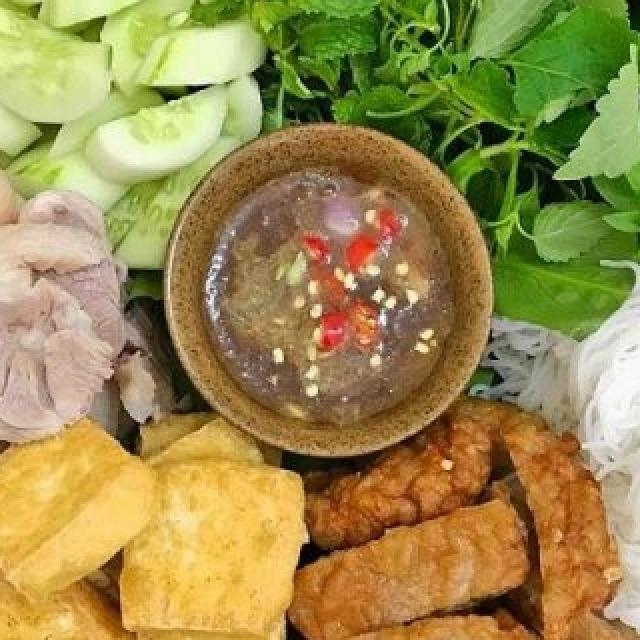bun: (453, 182, 640, 640)
bun dau: (0, 0, 640, 640)
cha com: (260, 381, 640, 640)
dau hu: (93, 390, 326, 640), (0, 395, 183, 605), (0, 518, 174, 640)
thit heo: (0, 182, 180, 449)
